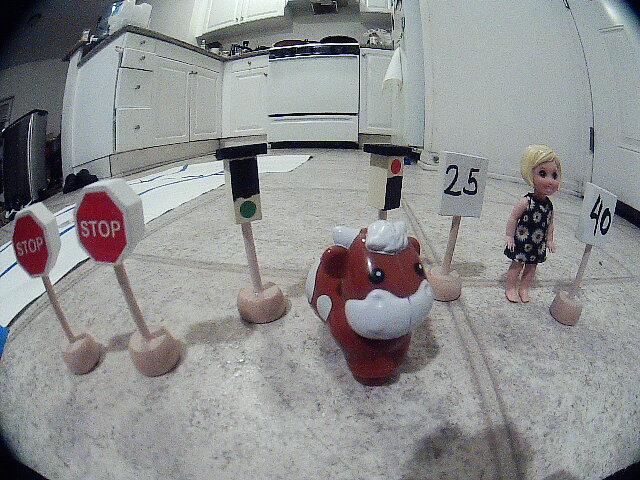Cow: (306, 222, 439, 398)
Green Traffic Light: (206, 138, 289, 232)
Person: (513, 136, 565, 308)
Red Traffic Light: (354, 139, 425, 218)
Speed Limit 25: (433, 148, 503, 238)
Speed Limit 40: (579, 180, 632, 272)
Stop Sign: (3, 204, 72, 297), (72, 184, 146, 267)
